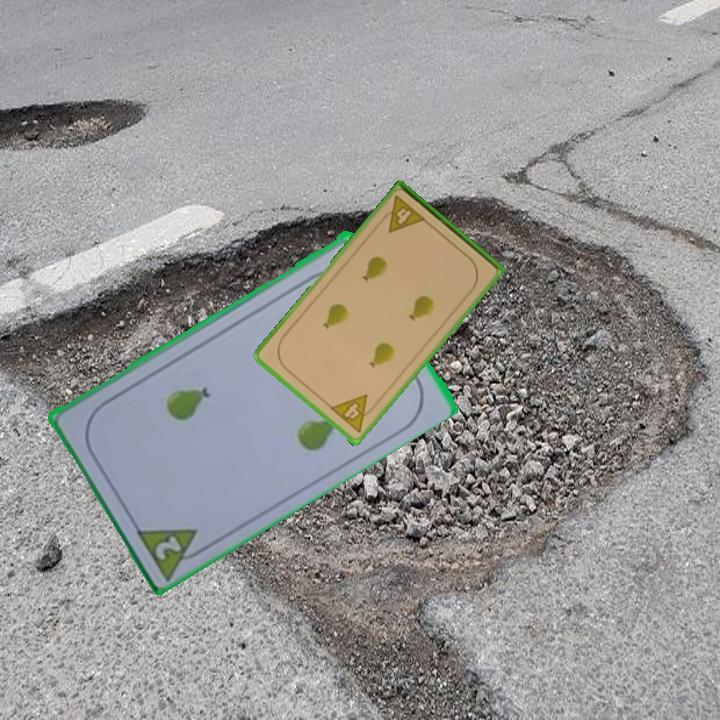2p: (131, 522, 212, 582)
4p: (326, 391, 380, 436), (375, 192, 429, 236)
